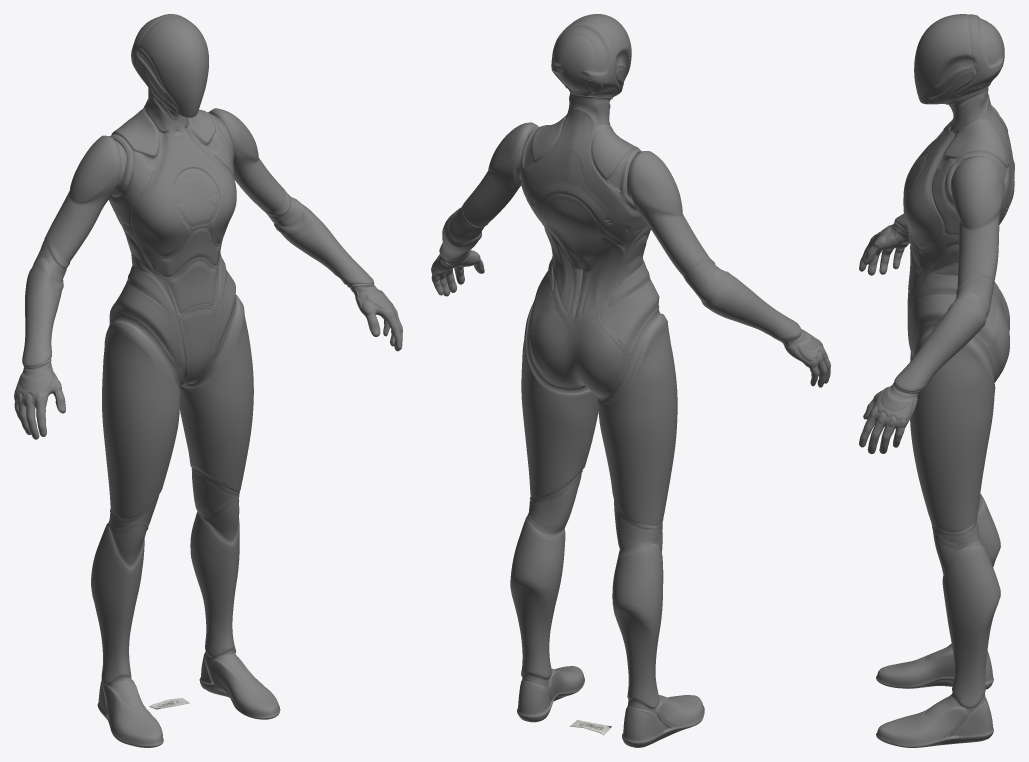
The model's file is gunner.glb.
The picture shows the model from 3 angles, left to right: view 1: azimuth 30°, elevation 25°; view 2: azimuth 150°, elevation 25°; view 3: azimuth 270°, elevation 25°; orthographic projection. The views are drawn at different scales.
Parts seen in each view (by area): view 1: SKM_Quinn.001; view 2: SKM_Quinn.001; view 3: SKM_Quinn.001.
Boxes of the visible parts, x1,y1,x2,y2 form: SKM_Quinn.001: (14,14,402,747); SKM_Quinn.001: (431,14,830,747); SKM_Quinn.001: (859,14,1014,747).
Size of the model in its own units: 1.04 by 1.81 by 0.3659.
3 materials, 1 textured.
